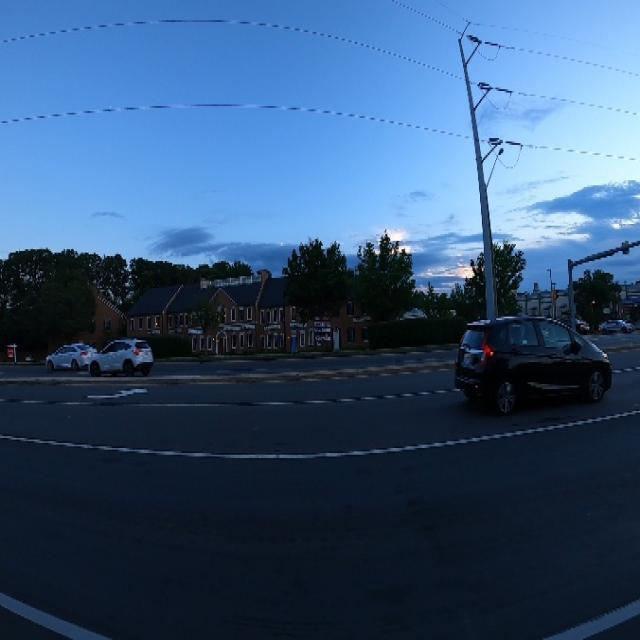cars: (452, 315, 610, 420), (89, 328, 156, 387), (42, 333, 98, 377), (597, 307, 634, 345), (568, 302, 590, 337)
